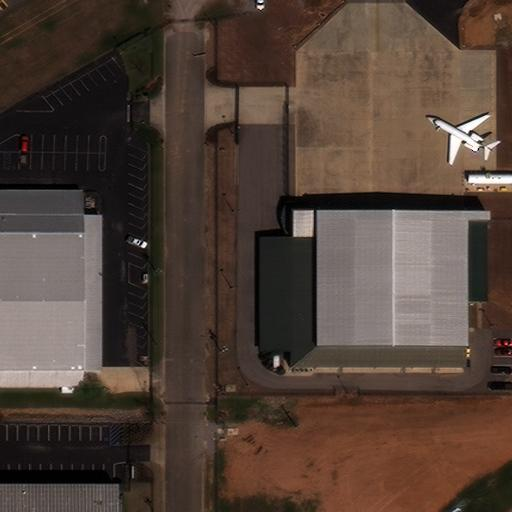Medium Civil Transport: (426, 112, 492, 164)
